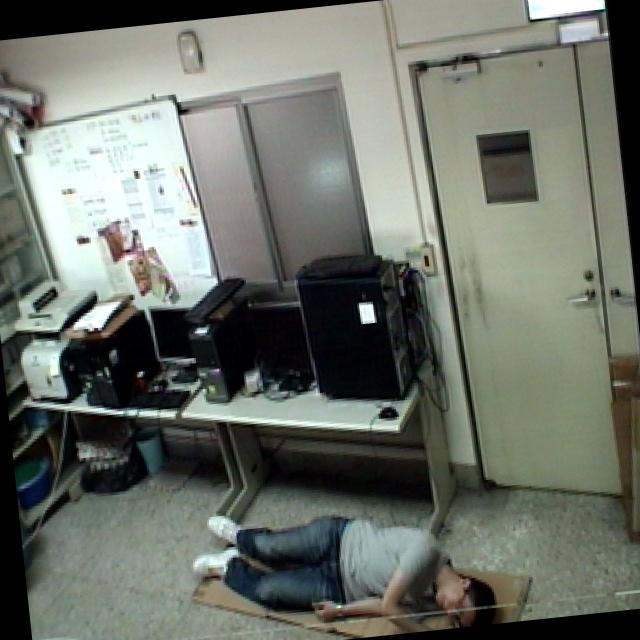lie: (182, 469, 505, 640)
